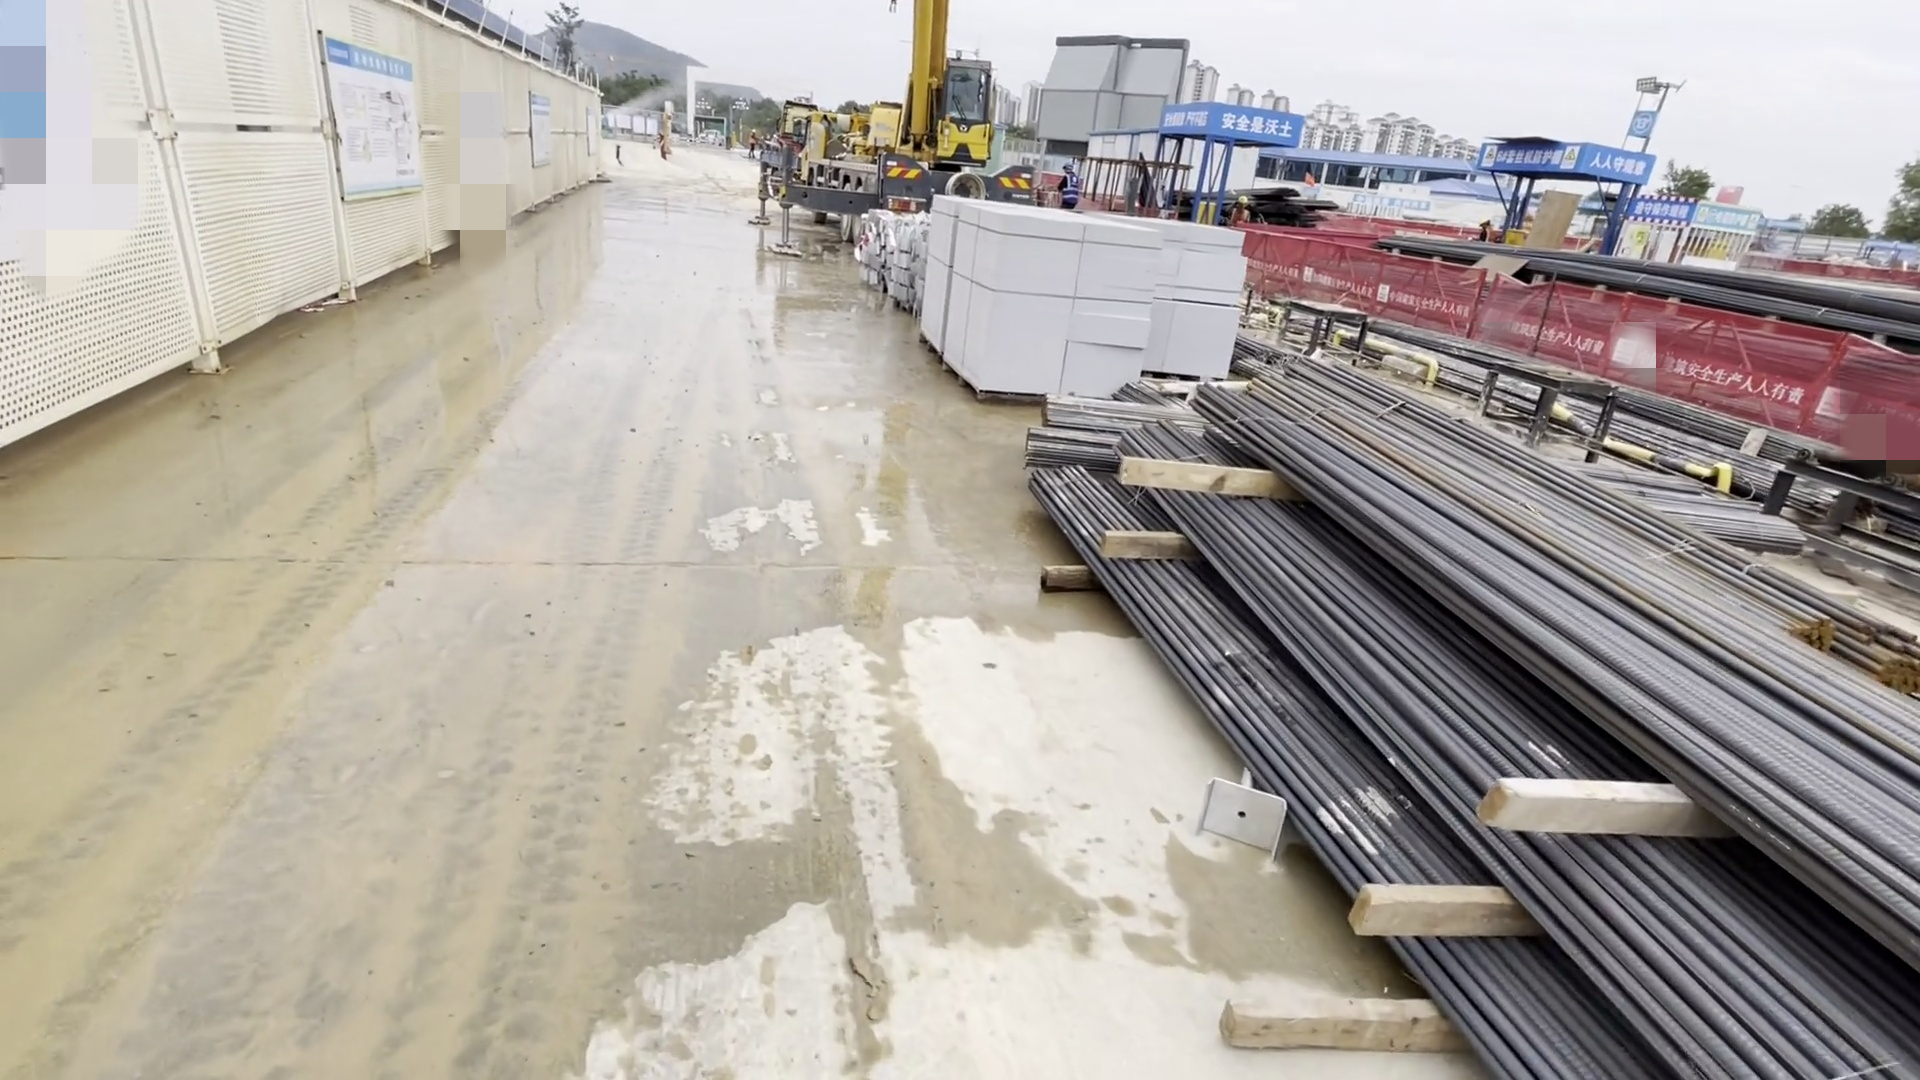brick: (919, 193, 1261, 392)
fence: (1247, 216, 1920, 502)
rebar: (1054, 363, 1917, 1080)
slogan: (1491, 138, 1648, 181), (1150, 105, 1304, 146)
